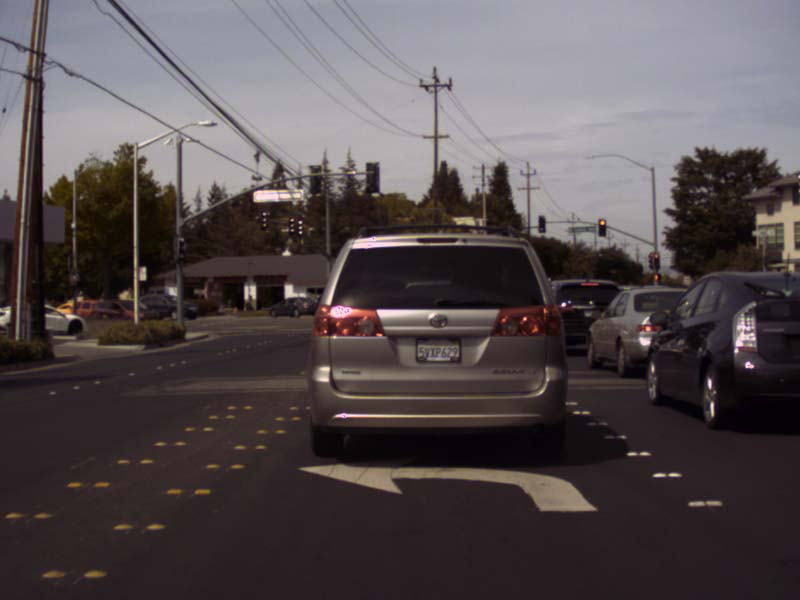Green: (538, 215, 544, 232)
Red: (598, 218, 606, 236), (653, 253, 658, 267)
Yellow: (653, 274, 657, 280)
